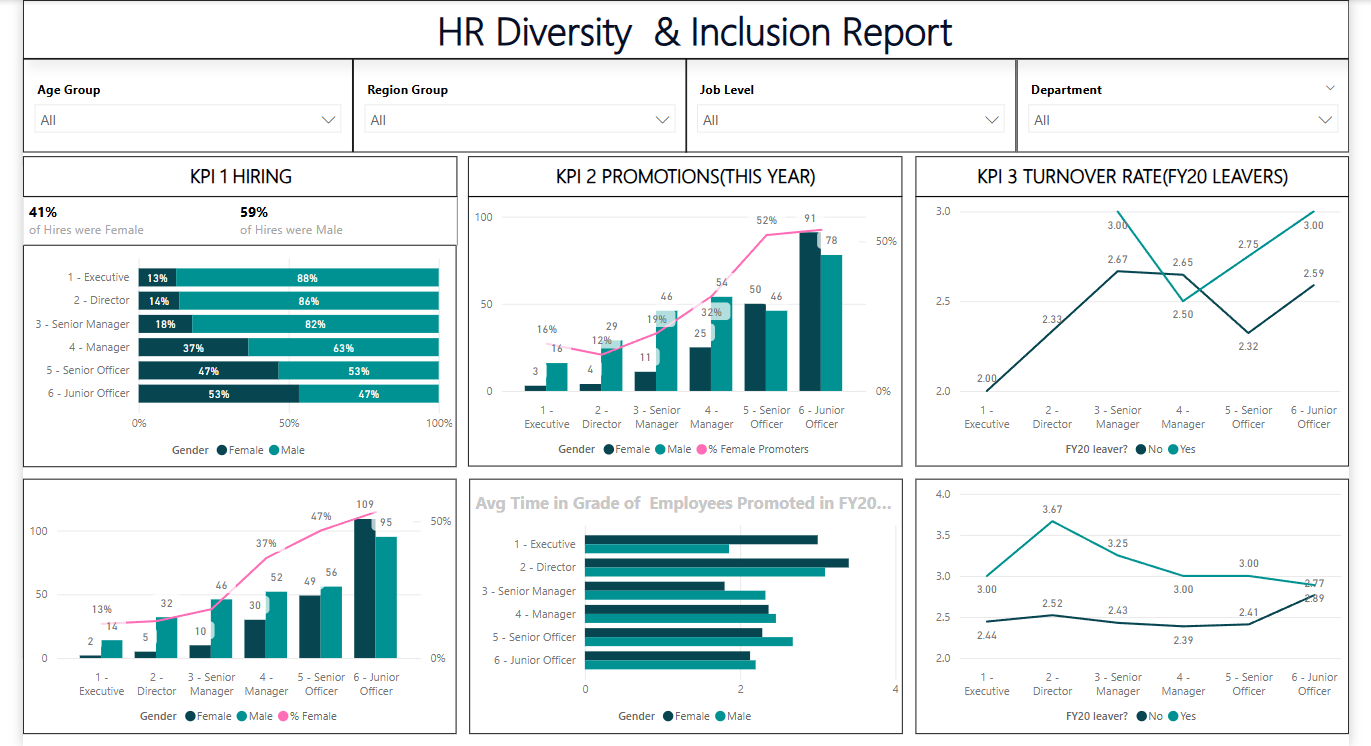

The dashboard page shown, as its layout file describes it:
{"tool":"powerbi","page":{"name":"Dashboard 1","canvas":[1280,720],"ordinal":0},"visuals":[{"type":"textbox","box":[0,0,1280,57],"z":0},{"type":"slicer","fields":{"Values":["Pharma.Last Department in FY20"]},"box":[959,57,321,90],"z":1000},{"type":"slicer","fields":{"Values":["Pharma.Job Level after FY20 promotions"]},"box":[640,57,319,90],"z":2000},{"type":"slicer","fields":{"Values":["Pharma.Age group"]},"box":[0,57,318,90],"z":3000},{"type":"slicer","fields":{"Values":["Pharma.Broad region group: nationality 1"]},"box":[318,57,322,90],"z":4000},{"type":"hundredPercentStackedBarChart","fields":{"Category":["Pharma.Job Level after FY20 promotions"],"Y":["CountNonNull(Pharma.Employee ID)"],"Series":["Pharma.Gender"]},"box":[0,236.5,418.6,214.7],"z":5000},{"type":"multiRowCard","fields":{"Values":["Pharma.% Female","Pharma.% Male"]},"box":[0,190,419,47],"z":6000},{"type":"lineClusteredColumnComboChart","fields":{"Category":["Pharma.Job Level after FY20 promotions"],"Y":["CountNonNull(Pharma.Employee ID)"],"Y2":["Pharma.% Female"],"Series":["Pharma.Gender"]},"box":[0,462.1,418.6,246.1],"z":7000},{"type":"lineClusteredColumnComboChart","fields":{"Y":["CountNonNull(Pharma.Employee ID)"],"Y2":["Pharma.% Female"],"Series":["Pharma.Gender"],"Category":["Pharma.Job Level after FY21 promotions"]},"box":[429,190,419,261],"z":8000},{"type":"clusteredBarChart","title":"Avg Time in Grade of  Employees Promoted in FY2021(in Years)","fields":{"Category":["Pharma.Job Level after FY20 promotions"],"Series":["Pharma.Gender"],"Y":["Avg(Pharma.Time in Job Level @01.07.2020)"]},"box":[430.7,462.1,418.6,246.1],"z":9000},{"type":"lineChart","fields":{"Category":["Pharma.Job Level after FY20 promotions"],"Series":["Pharma.FY20 leaver?"],"Y":["Avg(Pharma.FY19 Performance Rating)"]},"box":[862,190,418,261],"z":10000},{"type":"lineChart","fields":{"Category":["Pharma.Job Level after FY20 promotions"],"Series":["Pharma.FY20 leaver?"],"Y":["Avg(Pharma.FY19 Performance Rating)"]},"box":[861.4,462.1,418.6,246.1],"z":11000},{"type":"textbox","box":[0,151,419,39],"z":12000},{"type":"textbox","box":[429,151,419,39],"z":13000},{"type":"textbox","box":[862,151,418,39],"z":14000}]}

Visuals, with their boxes in screenshot pixels (x1, y1, x2, y2):
textbox: bbox(32, 0, 1340, 58)
slicer - Pharma.Last Department in FY20: bbox(1012, 58, 1340, 150)
slicer - Pharma.Job Level after FY20 promotions: bbox(686, 58, 1012, 150)
slicer - Pharma.Age group: bbox(32, 58, 357, 150)
slicer - Pharma.Broad region group: nationality 1: bbox(357, 58, 686, 150)
hundredPercentStackedBarChart - Pharma.Job Level after FY20 promotions x CountNonNull(Pharma.Employee ID): bbox(32, 242, 460, 461)
multiRowCard - Pharma.% Female x Pharma.% Male: bbox(32, 194, 460, 242)
lineClusteredColumnComboChart - Pharma.Job Level after FY20 promotions x CountNonNull(Pharma.Employee ID): bbox(32, 472, 460, 724)
lineClusteredColumnComboChart - CountNonNull(Pharma.Employee ID) x Pharma.% Female: bbox(471, 194, 899, 461)
"Avg Time in Grade of  Employees Promoted in FY2021(in Years)" clusteredBarChart: bbox(472, 472, 900, 724)
lineChart - Pharma.Job Level after FY20 promotions x Pharma.FY20 leaver?: bbox(913, 194, 1340, 461)
lineChart - Pharma.Job Level after FY20 promotions x Pharma.FY20 leaver?: bbox(913, 472, 1340, 724)
textbox: bbox(32, 154, 460, 194)
textbox: bbox(471, 154, 899, 194)
textbox: bbox(913, 154, 1340, 194)
